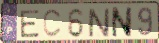6: (67, 7, 85, 39)
9: (136, 6, 154, 39)
C: (42, 8, 64, 39)
E: (19, 9, 41, 39)
N: (110, 6, 133, 39), (87, 8, 111, 39)
